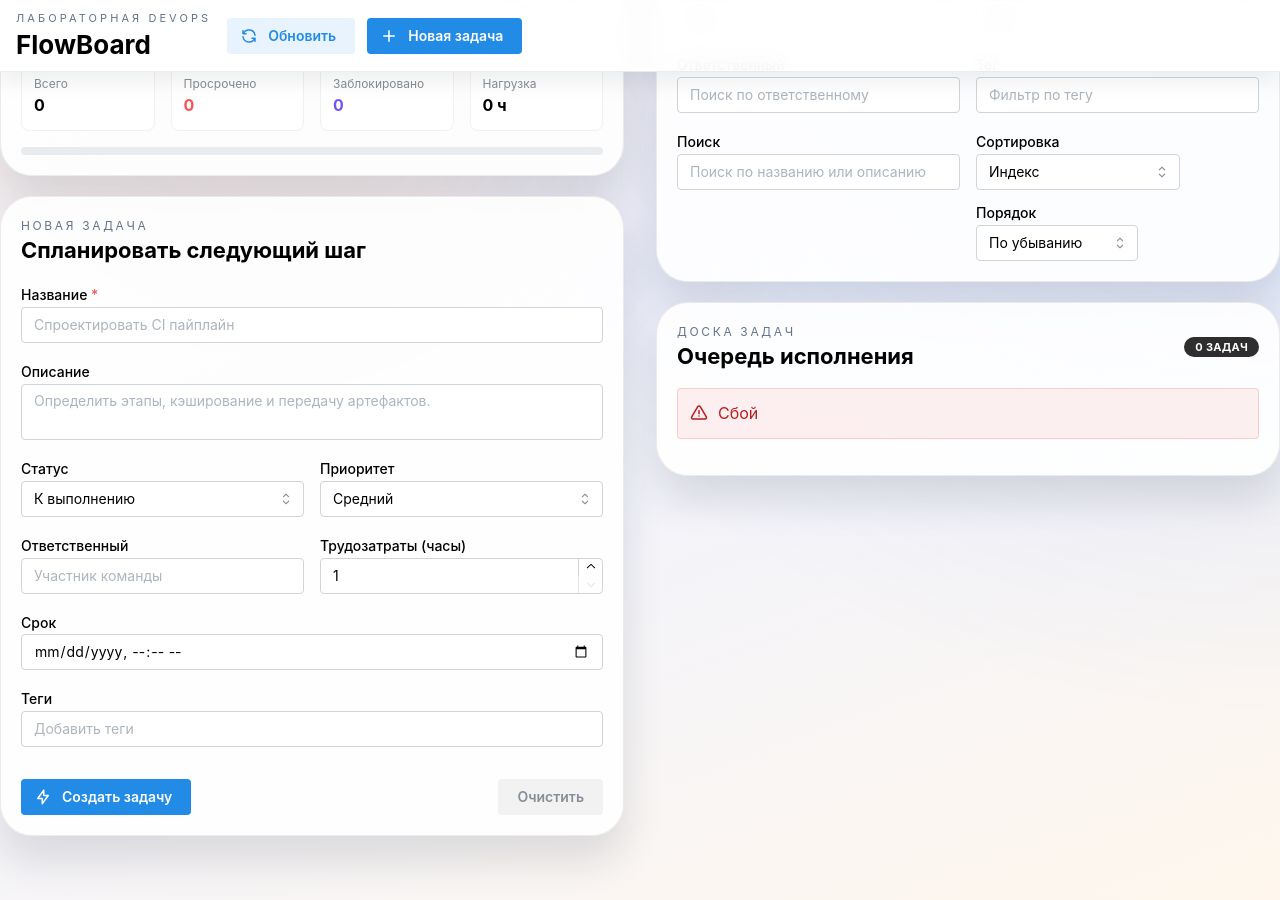
Test: App › shows errors on load and validation
The image size is (1280, 900).
(page scrolled)
Expected: the text "Сбой" is shown, [718, 401, 758, 426]
Click the button "Создать задачу" at (106, 797), box [21, 779, 191, 815]
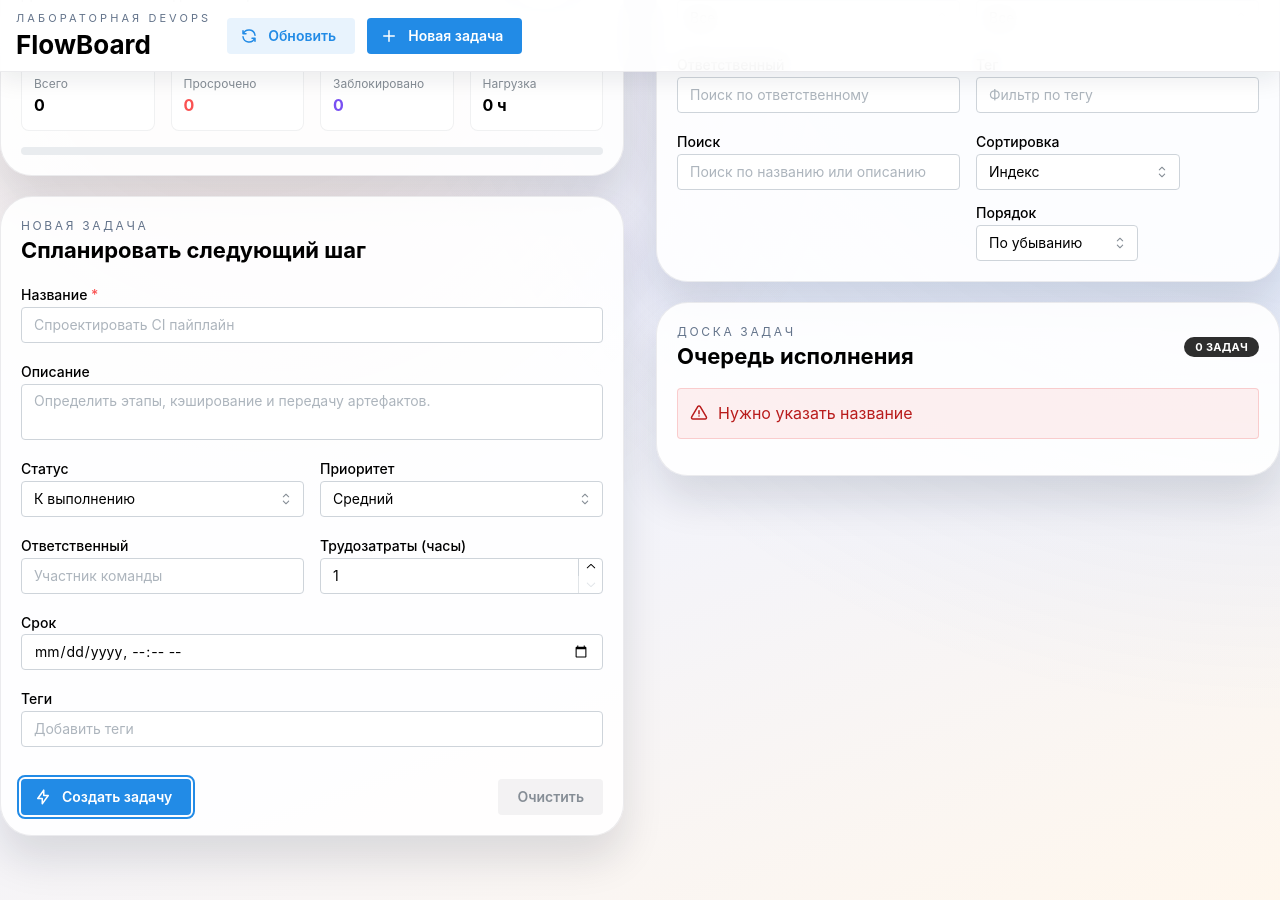
Now the text "Нужно указать название" is shown, box [718, 401, 913, 426]
